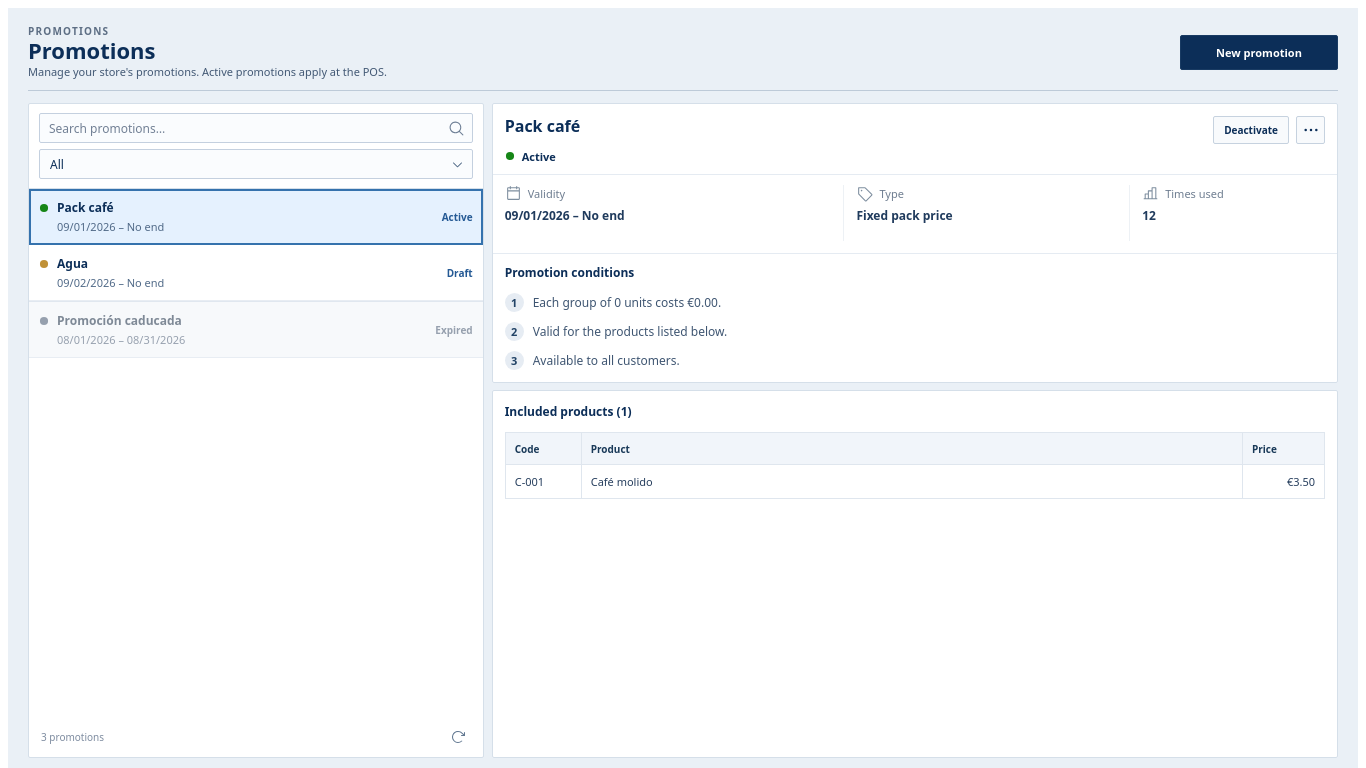
Test case: Promotion list filters and detail › searches by the localized status in en
Check: the button "Agua 09/02/2026 – No end Draft" is shown, box 29,245 -> 483,301
Type "Draft" into the search field labelled "Search" at (256, 128), box 39,113 -> 473,143
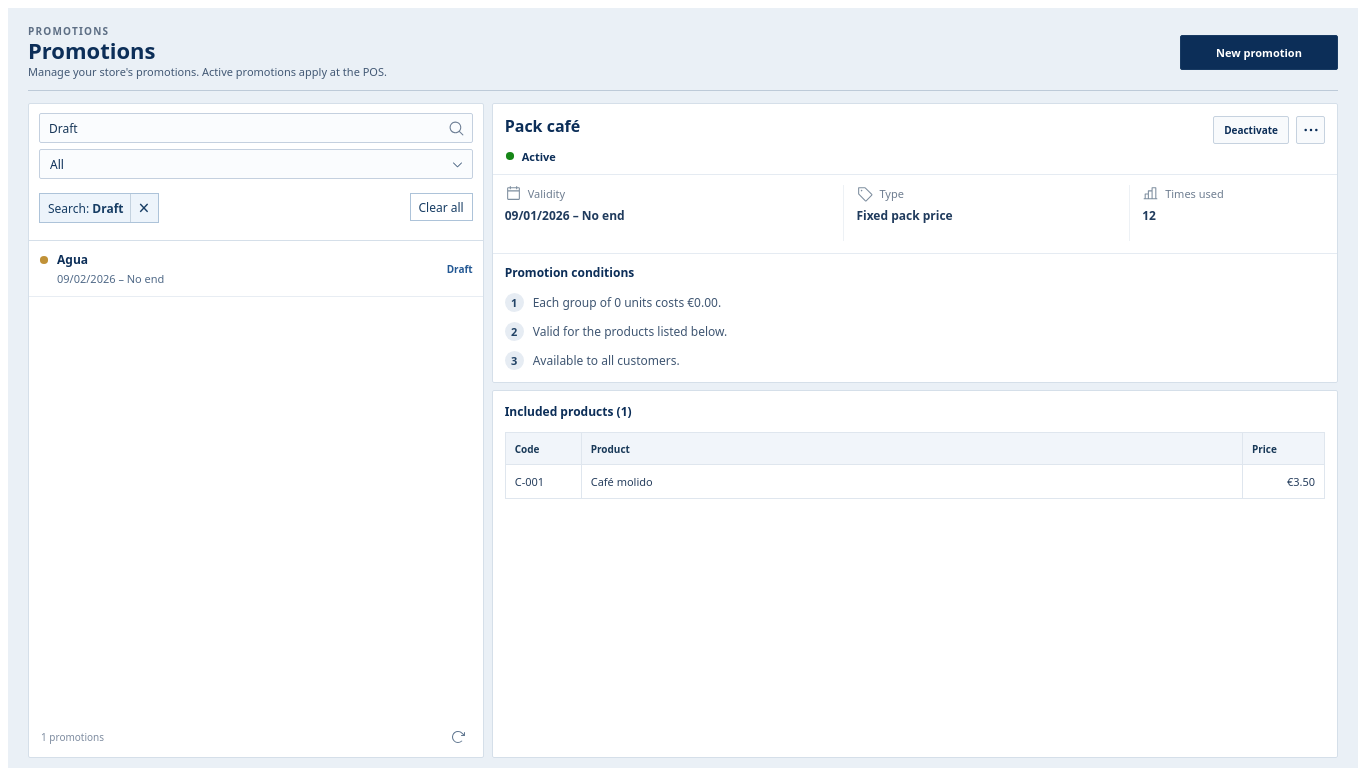
Check: the button "Agua 09/02/2026 – No end Draft" is shown, box 29,241 -> 483,297
Click the button "Clear all" at (441, 207), box 410,193 -> 473,221
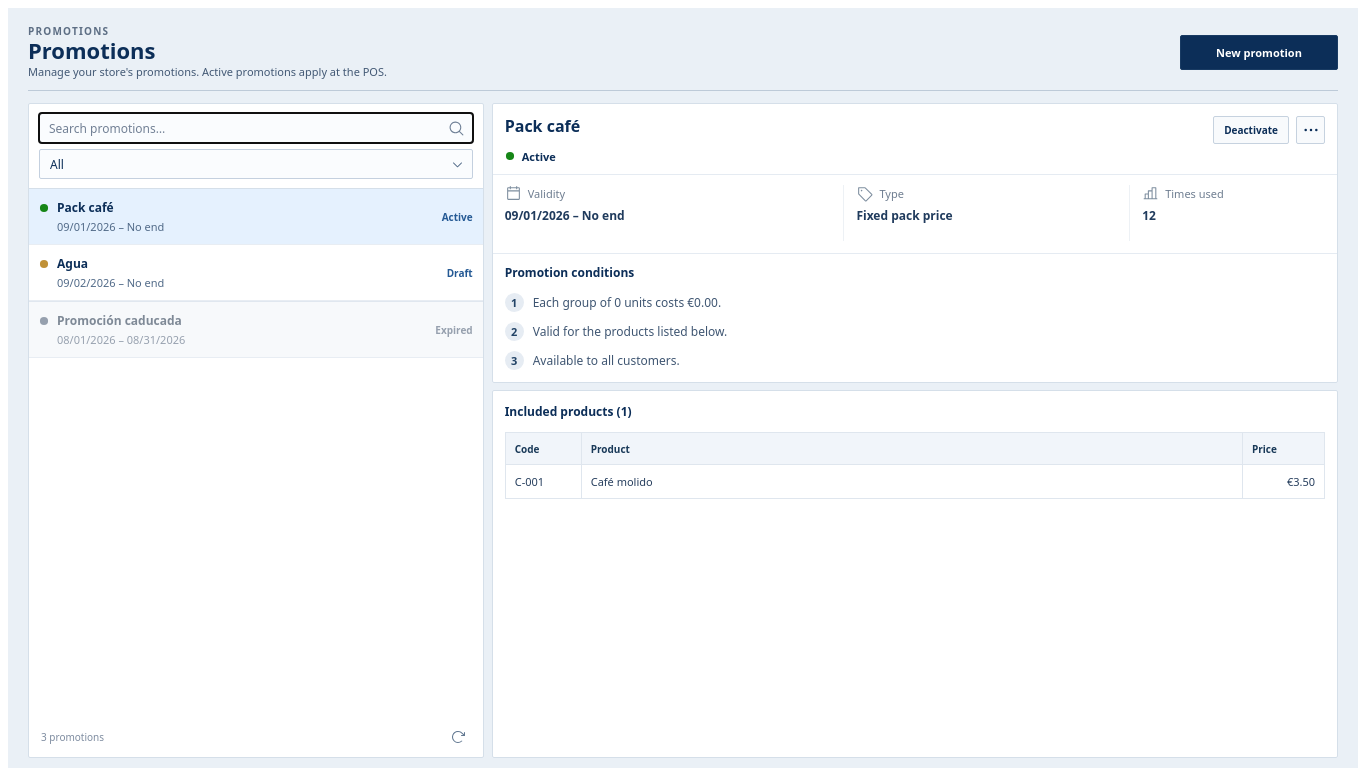
Check: the button "Pack café 09/01/2026 – No end Active" is shown, box 29,189 -> 483,245
Check: the search field labelled "Search" is empty, box 39,113 -> 473,143
